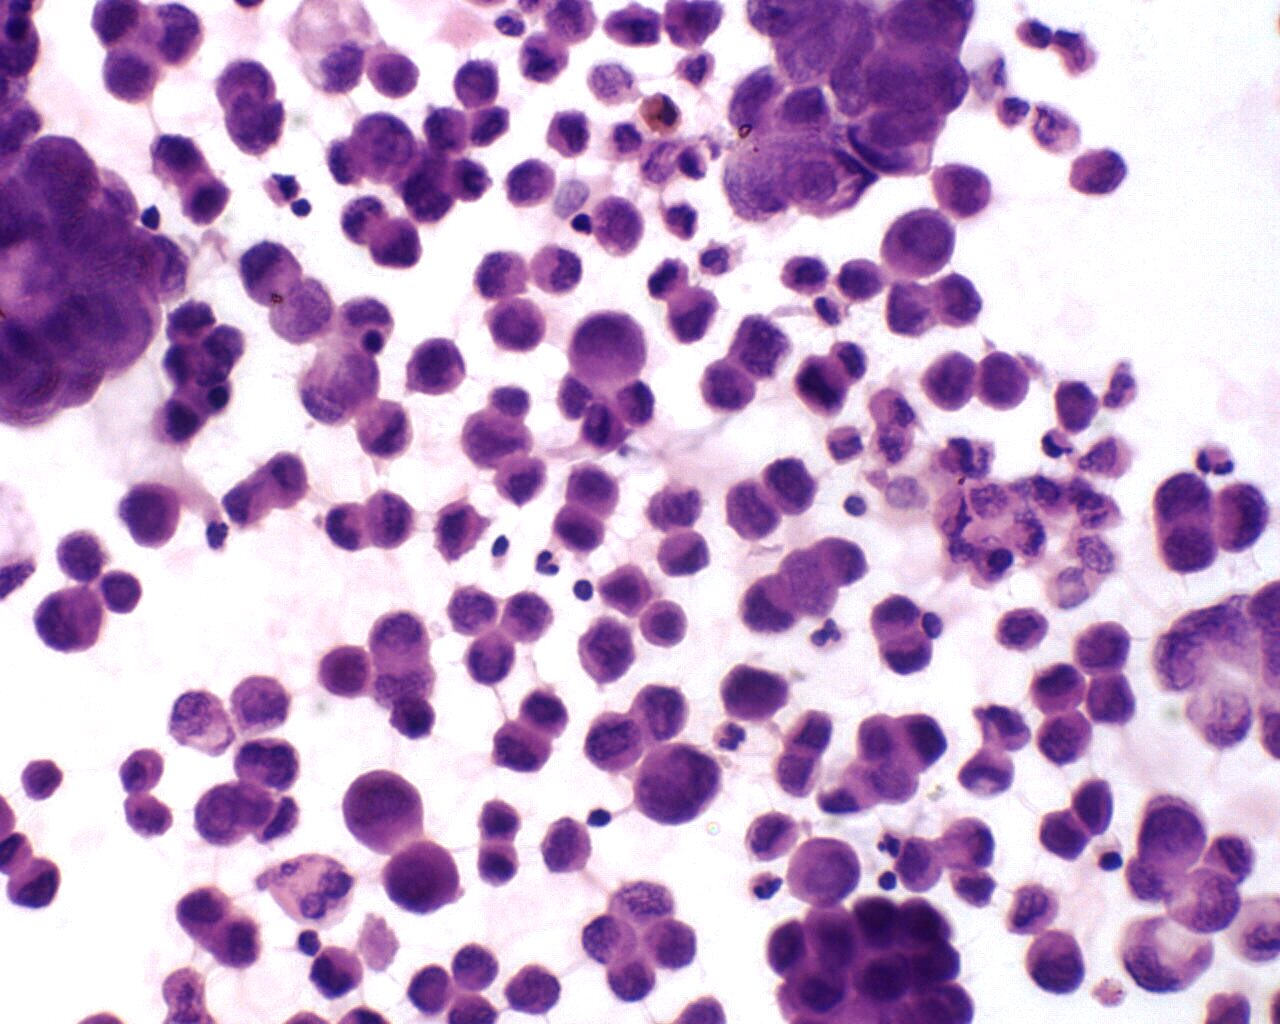ab: (634, 740, 724, 829), (341, 769, 425, 858), (874, 200, 959, 280), (565, 306, 651, 385), (779, 837, 870, 909), (1134, 794, 1211, 877), (380, 839, 460, 914), (30, 583, 104, 658), (573, 616, 641, 685), (113, 478, 180, 548), (1025, 930, 1091, 1000), (403, 338, 473, 399), (1154, 516, 1219, 578), (483, 296, 549, 357), (582, 707, 643, 774), (99, 42, 163, 103), (691, 359, 754, 421), (763, 451, 820, 518), (922, 347, 976, 415), (1034, 709, 1093, 770), (505, 960, 563, 1017), (365, 43, 421, 101), (978, 349, 1031, 410), (1075, 618, 1133, 673), (641, 920, 699, 971), (449, 54, 506, 107), (1039, 805, 1089, 861), (449, 942, 501, 994)
lymph: (290, 197, 315, 222)
neutro: (806, 615, 850, 657), (528, 545, 564, 584), (747, 870, 787, 905)
